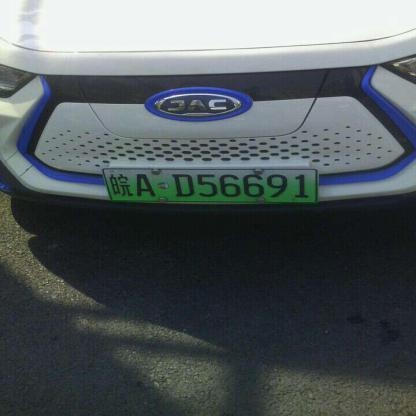lp: (104, 168, 316, 201)
